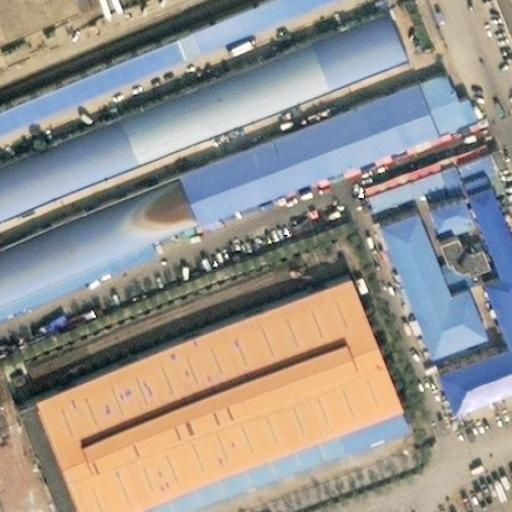building: (24, 266, 397, 512), (367, 196, 481, 339), (430, 246, 512, 390), (458, 156, 512, 254), (404, 134, 490, 185), (433, 200, 489, 255), (413, 167, 471, 218), (356, 164, 414, 209)
